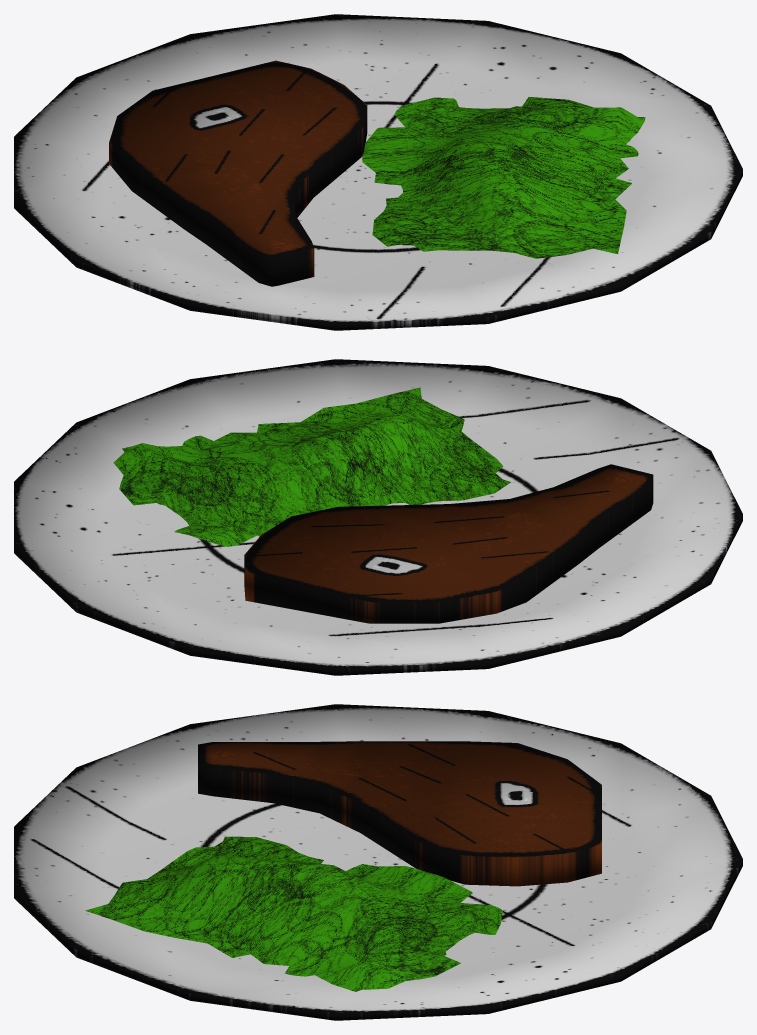
Rendered from plate_w_food.obj.
3 views of the same model, one above another, from view 1: azimuth 30°, elevation 25°; view 2: azimuth 150°, elevation 25°; view 3: azimuth 270°, elevation 25° (orthographic).
Parts seen in each view (by area): view 1: plateWithFood; view 2: plateWithFood; view 3: plateWithFood.
Part boxes in pixels (x1,y1,x2,y2): plateWithFood: [14, 14, 742, 330]; plateWithFood: [14, 359, 742, 675]; plateWithFood: [14, 704, 742, 1020].
Bounding box in the file's own units: 1.99 × 0.129 × 1.98.
